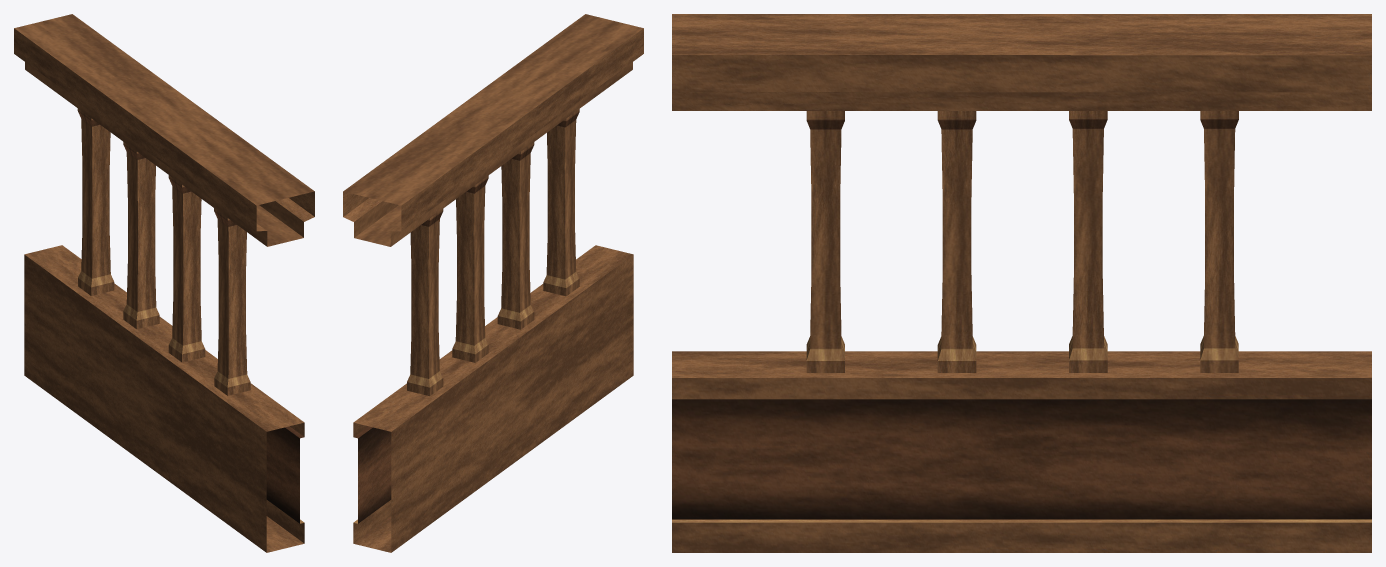
The model's file is stairs_railing_horizontal.fbx.
3 views of the same model, side by side, from view 1: azimuth 30°, elevation 25°; view 2: azimuth 150°, elevation 25°; view 3: azimuth 270°, elevation 25° (orthographic). The views are drawn at different scales.
Visible parts, largest first — view 1: stairs_deco2; view 2: stairs_deco2; view 3: stairs_deco2.
Part boxes in pixels (box(x1,y1,x2,y2)): stairs_deco2: box(14, 14, 314, 552); stairs_deco2: box(343, 14, 643, 552); stairs_deco2: box(672, 14, 1371, 552).
Size of the model in its own units: 27.79 by 159 by 200.
1 material, 1 textured.
